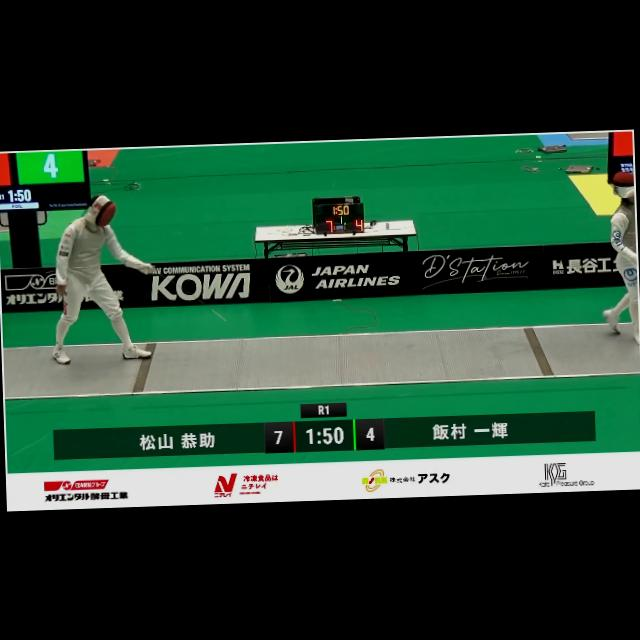blade: (142, 257, 235, 328)
